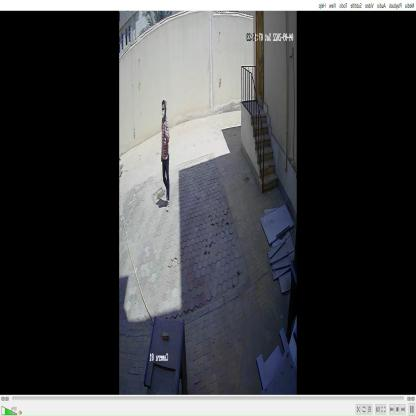handgun: (160, 99, 169, 148)
